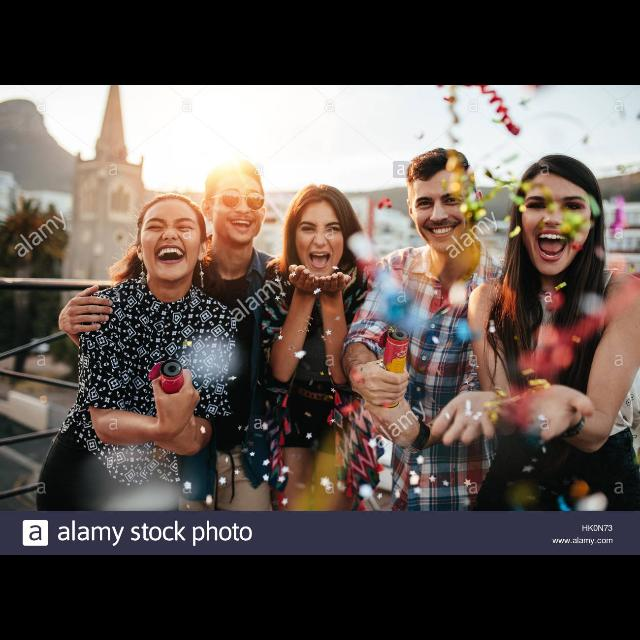head: (509, 153, 601, 275), (406, 150, 484, 254), (136, 193, 210, 285), (200, 157, 270, 245), (291, 184, 351, 280)
